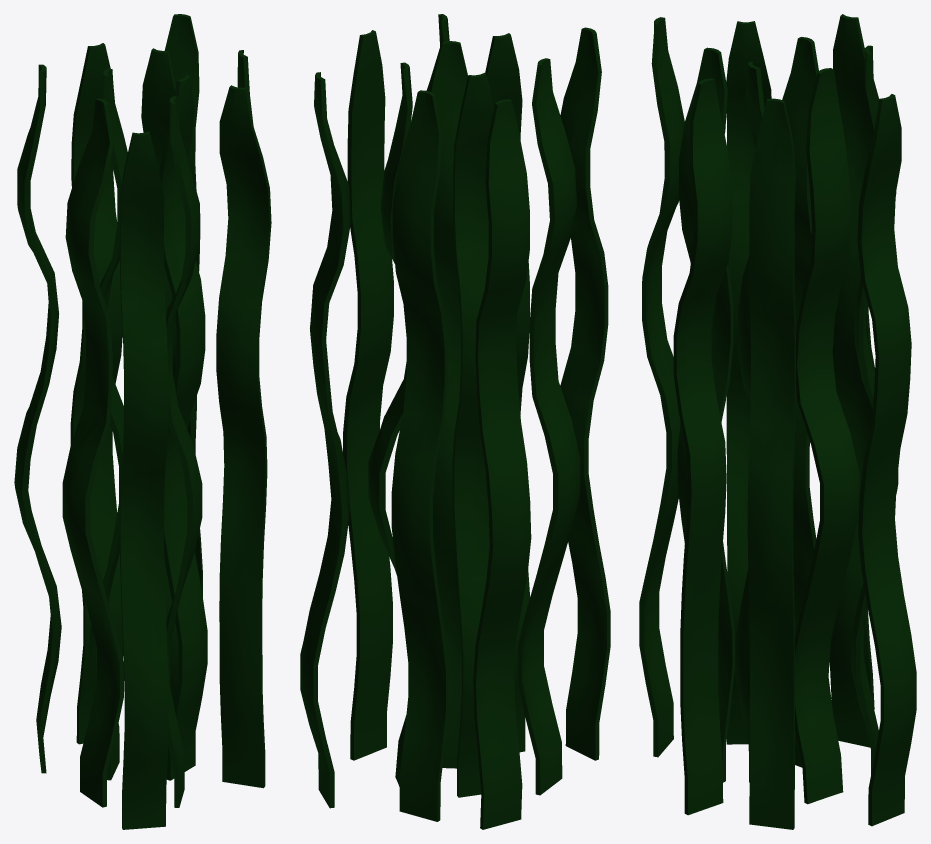
Rendered from maya2sketchfab.obj.
3 renders of one model, left to right at view 1: azimuth 30°, elevation 25°; view 2: azimuth 150°, elevation 25°; view 3: azimuth 270°, elevation 25°, orthographic. The views are drawn at different scales.
Parts seen in each view (by area): view 1: pCube65; view 2: pCube65; view 3: pCube65.
Boxes of the visible parts, left/top/right/bottom form: pCube65: left=14, top=14, right=271, bottom=829; pCube65: left=300, top=14, right=610, bottom=829; pCube65: left=639, top=14, right=916, bottom=829.
Size of the model in its own units: 5.42 by 17.48 by 6.07.
